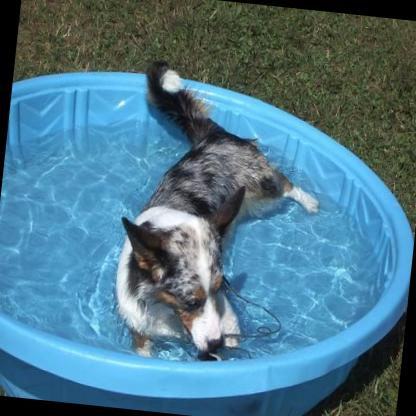Cardigan: (107, 54, 332, 373)
